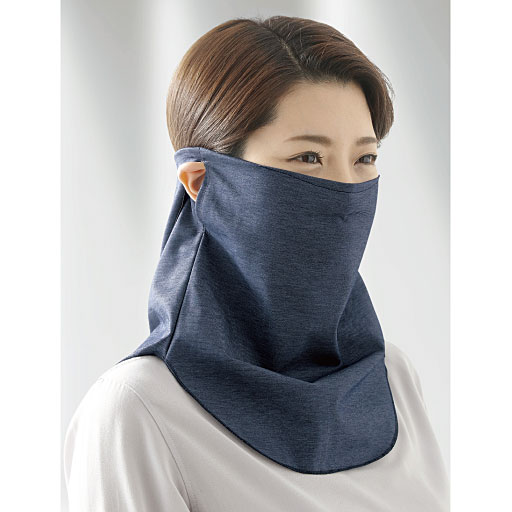face_mask: (233, 82, 383, 288)
